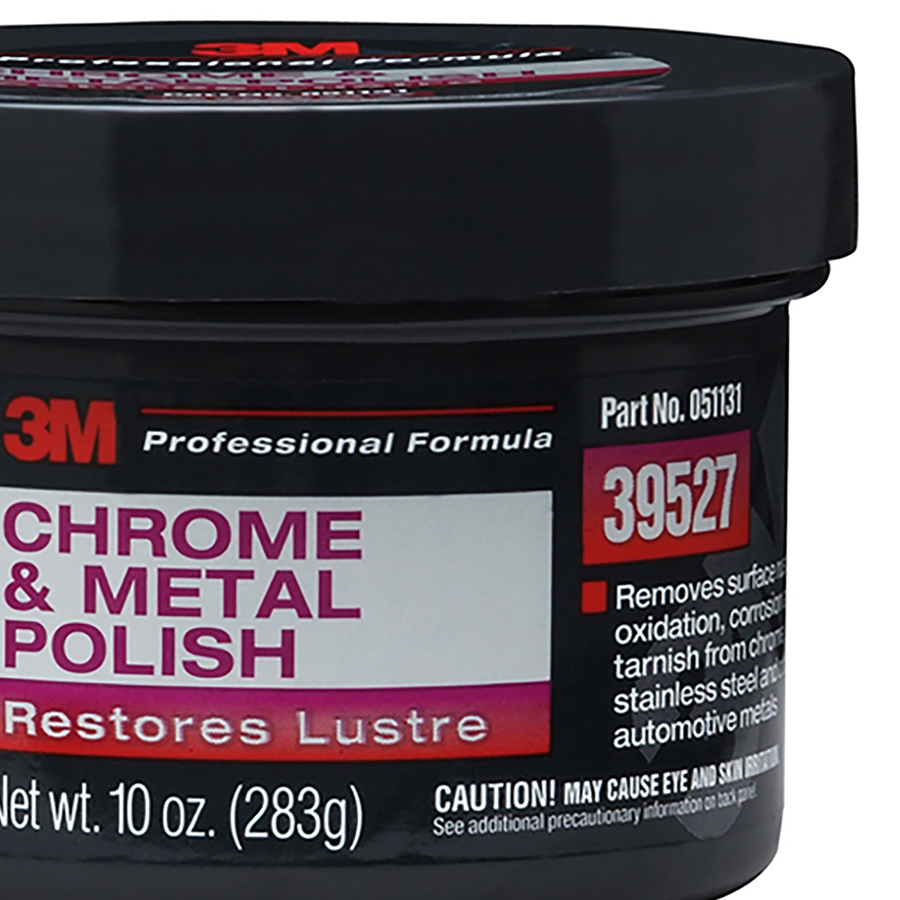3M: (2, 378, 125, 472), (186, 36, 372, 65)
